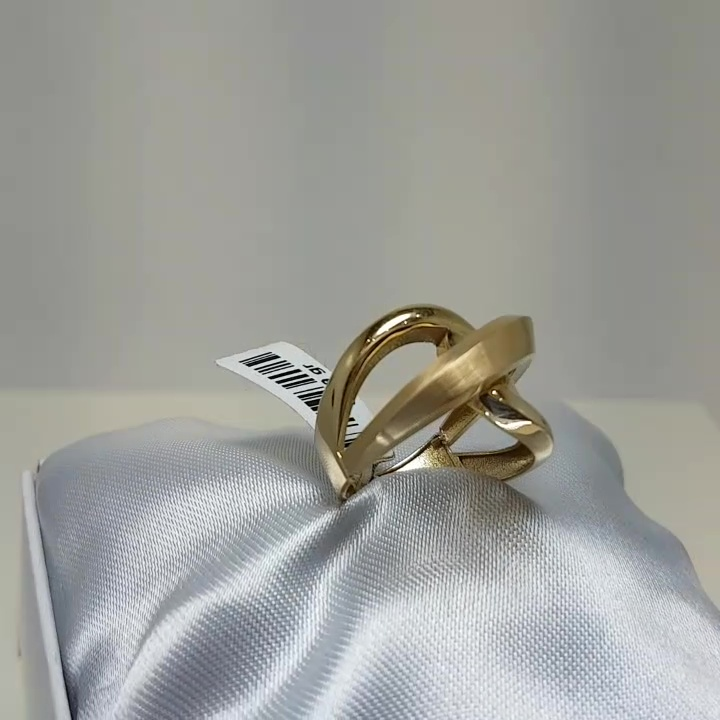Ring 3: (296, 278, 568, 509)
